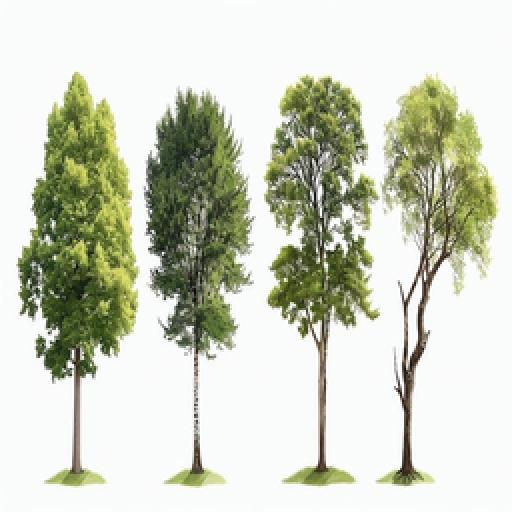trees: (16, 70, 140, 488), (376, 74, 498, 486), (262, 74, 382, 486), (144, 86, 254, 488)
